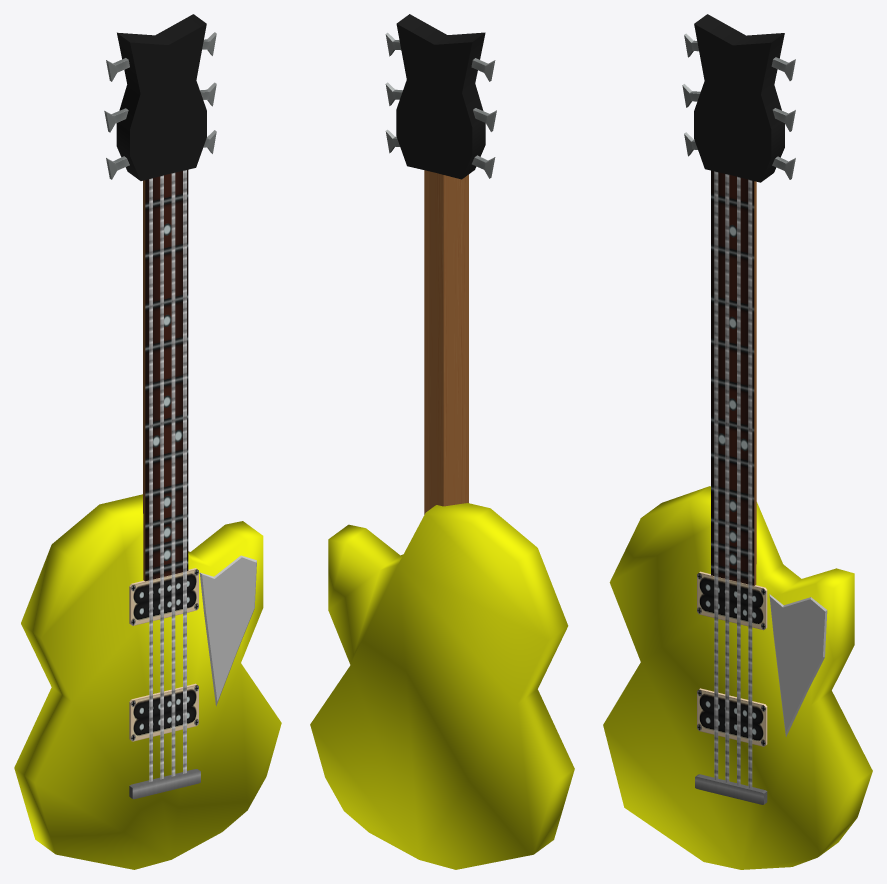
The model's file is Guitar_J.FBX.
The picture shows the model from 3 angles, left to right: view 1: azimuth 30°, elevation 25°; view 2: azimuth 150°, elevation 25°; view 3: azimuth 330°, elevation 25°; orthographic projection.
Visible parts, largest first — view 1: Guitar; view 2: Guitar; view 3: Guitar.
Part boxes in pixels (x1,y1,x2,y2): Guitar: (14, 14, 281, 869); Guitar: (310, 14, 574, 869); Guitar: (603, 14, 872, 869).
Size of the model in its own units: 64.57 by 208 by 10.83.
